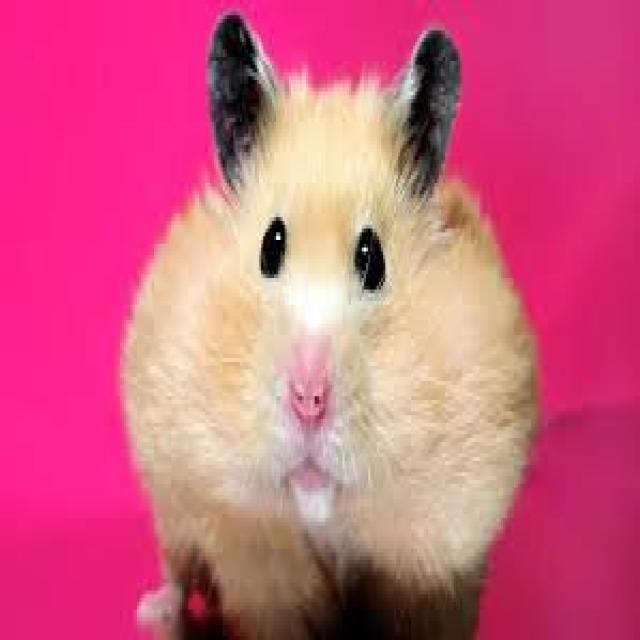hamster: (142, 85, 544, 600)
